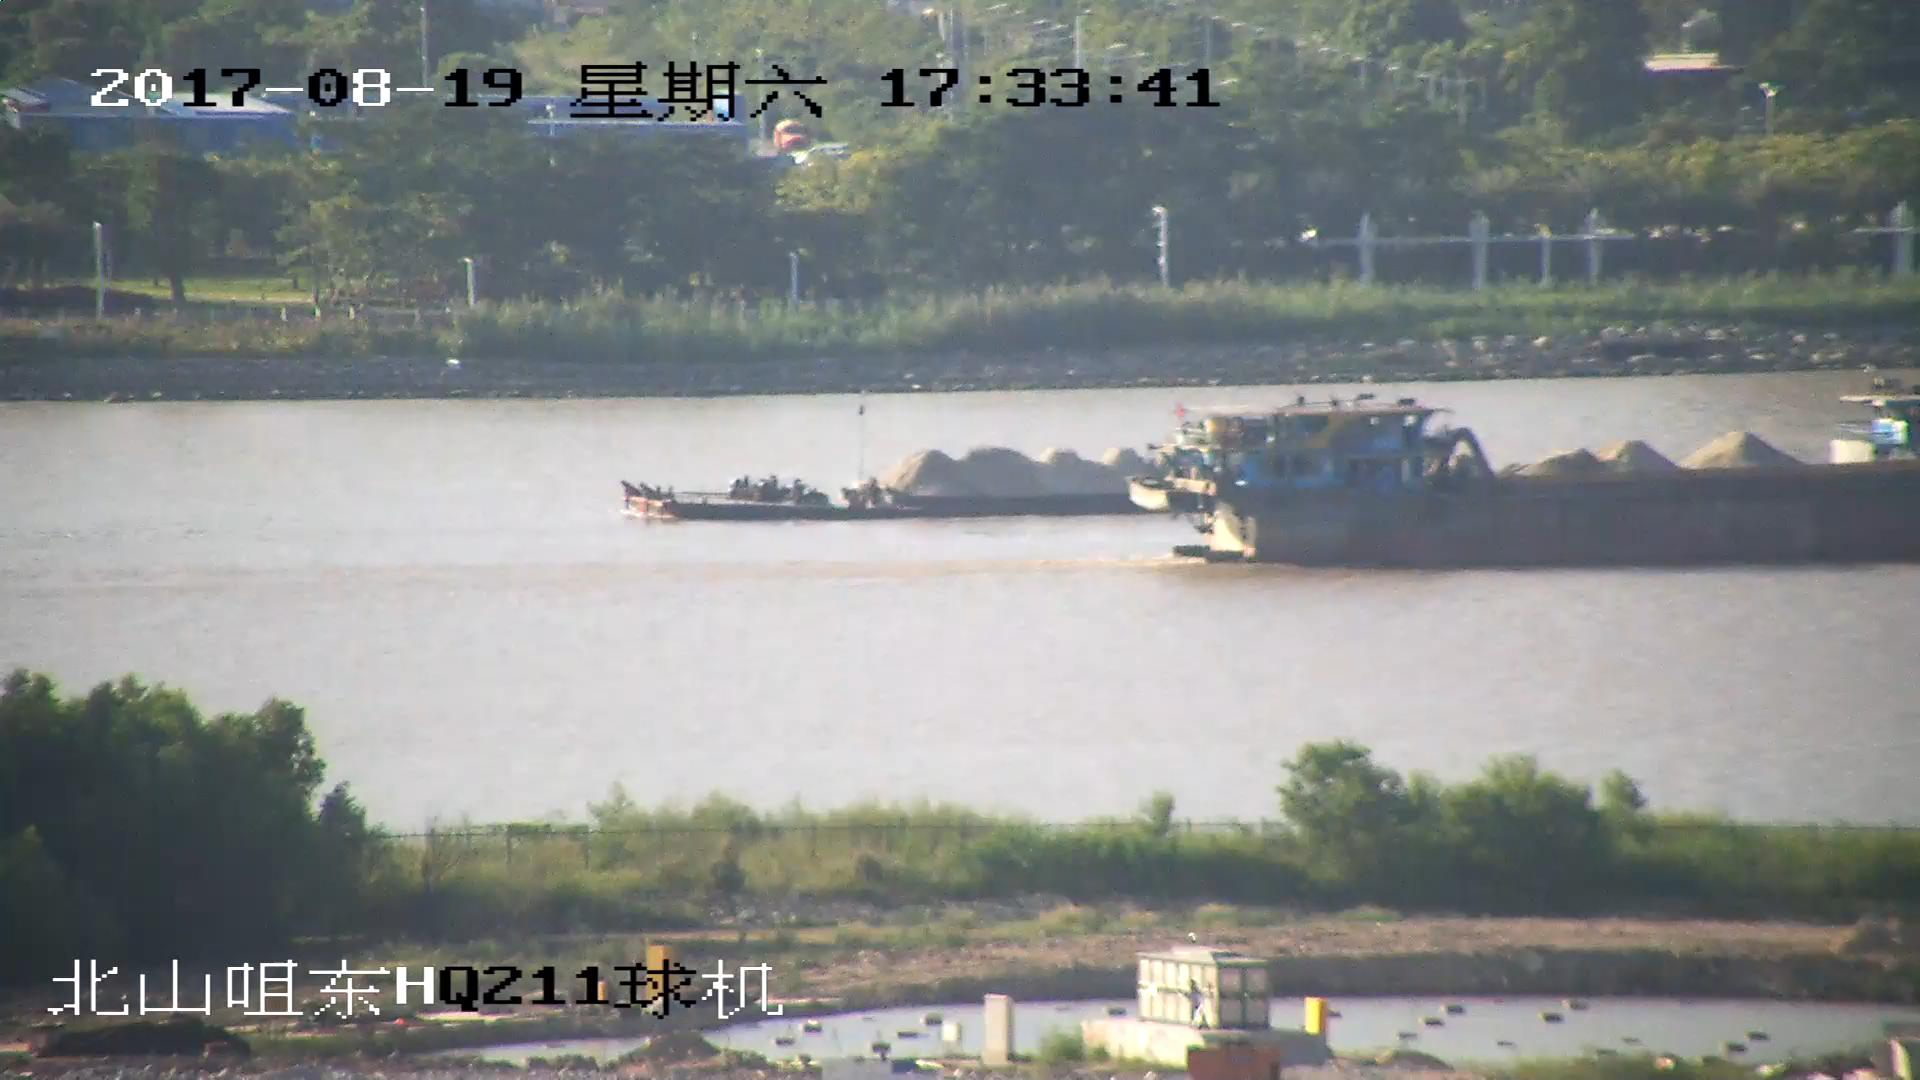bulk cargo carrier: (1130, 404, 1920, 567)
ore carrier: (624, 404, 1920, 508)
